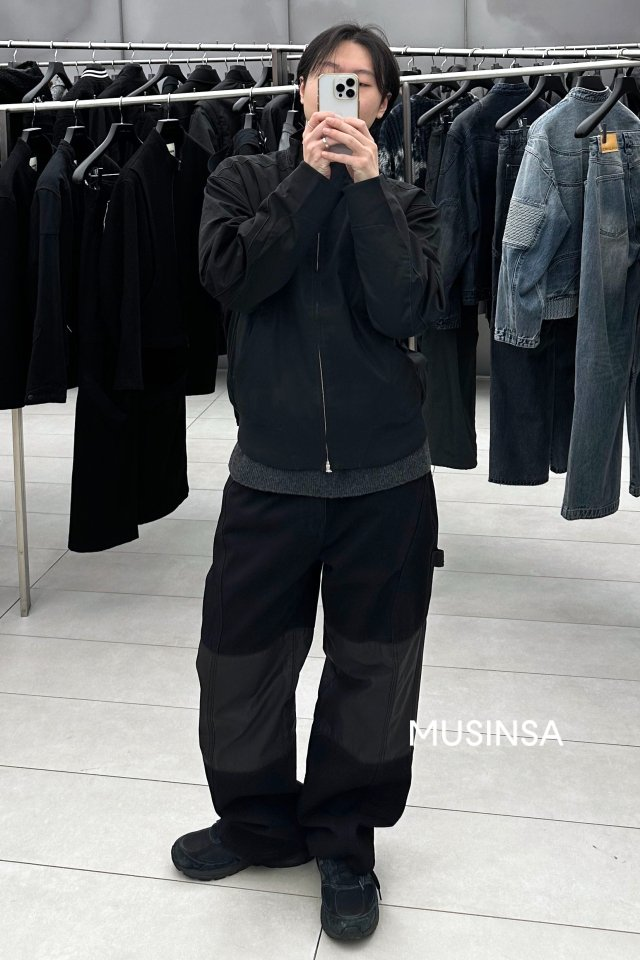Outer: (188, 140, 446, 467)
Pants: (193, 443, 432, 858)
Shoes: (168, 802, 391, 948)
